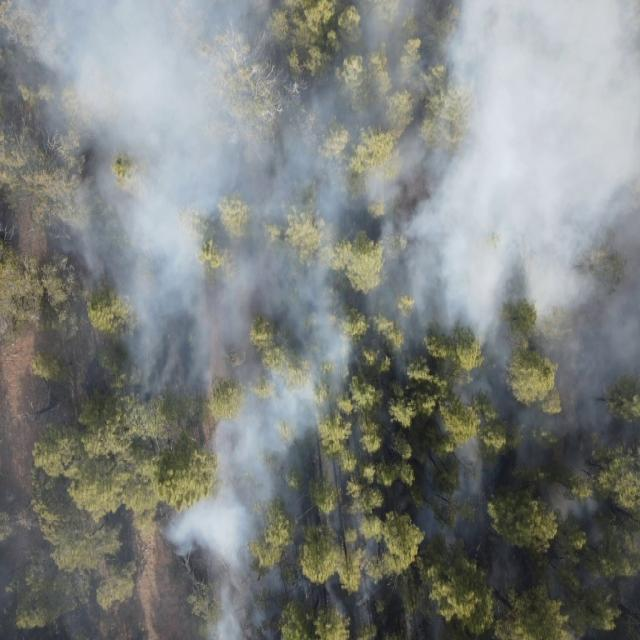smoke: (0, 0, 640, 409), (211, 409, 640, 640), (0, 487, 211, 640)
